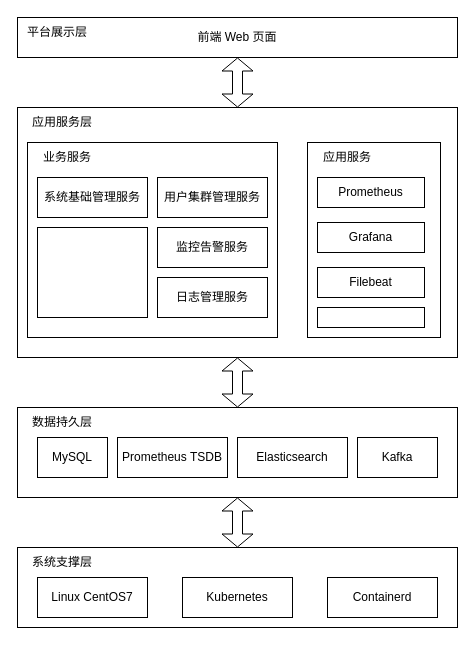
Image size: 475x645. Some labels were removed from this diagram. The centre of each missing label's shape, as x and y in pixels:
Kubernetes 资源对象管理服务: point 92,272
Logstash: point 370,317
